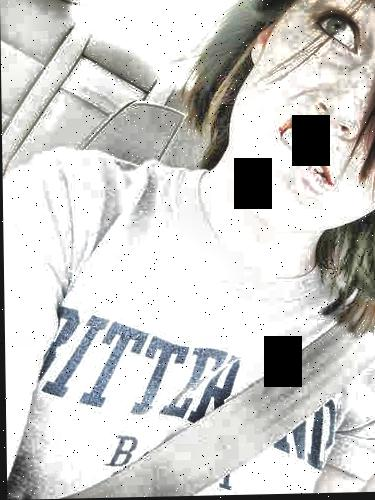seatbelt: (141, 304, 349, 483)
